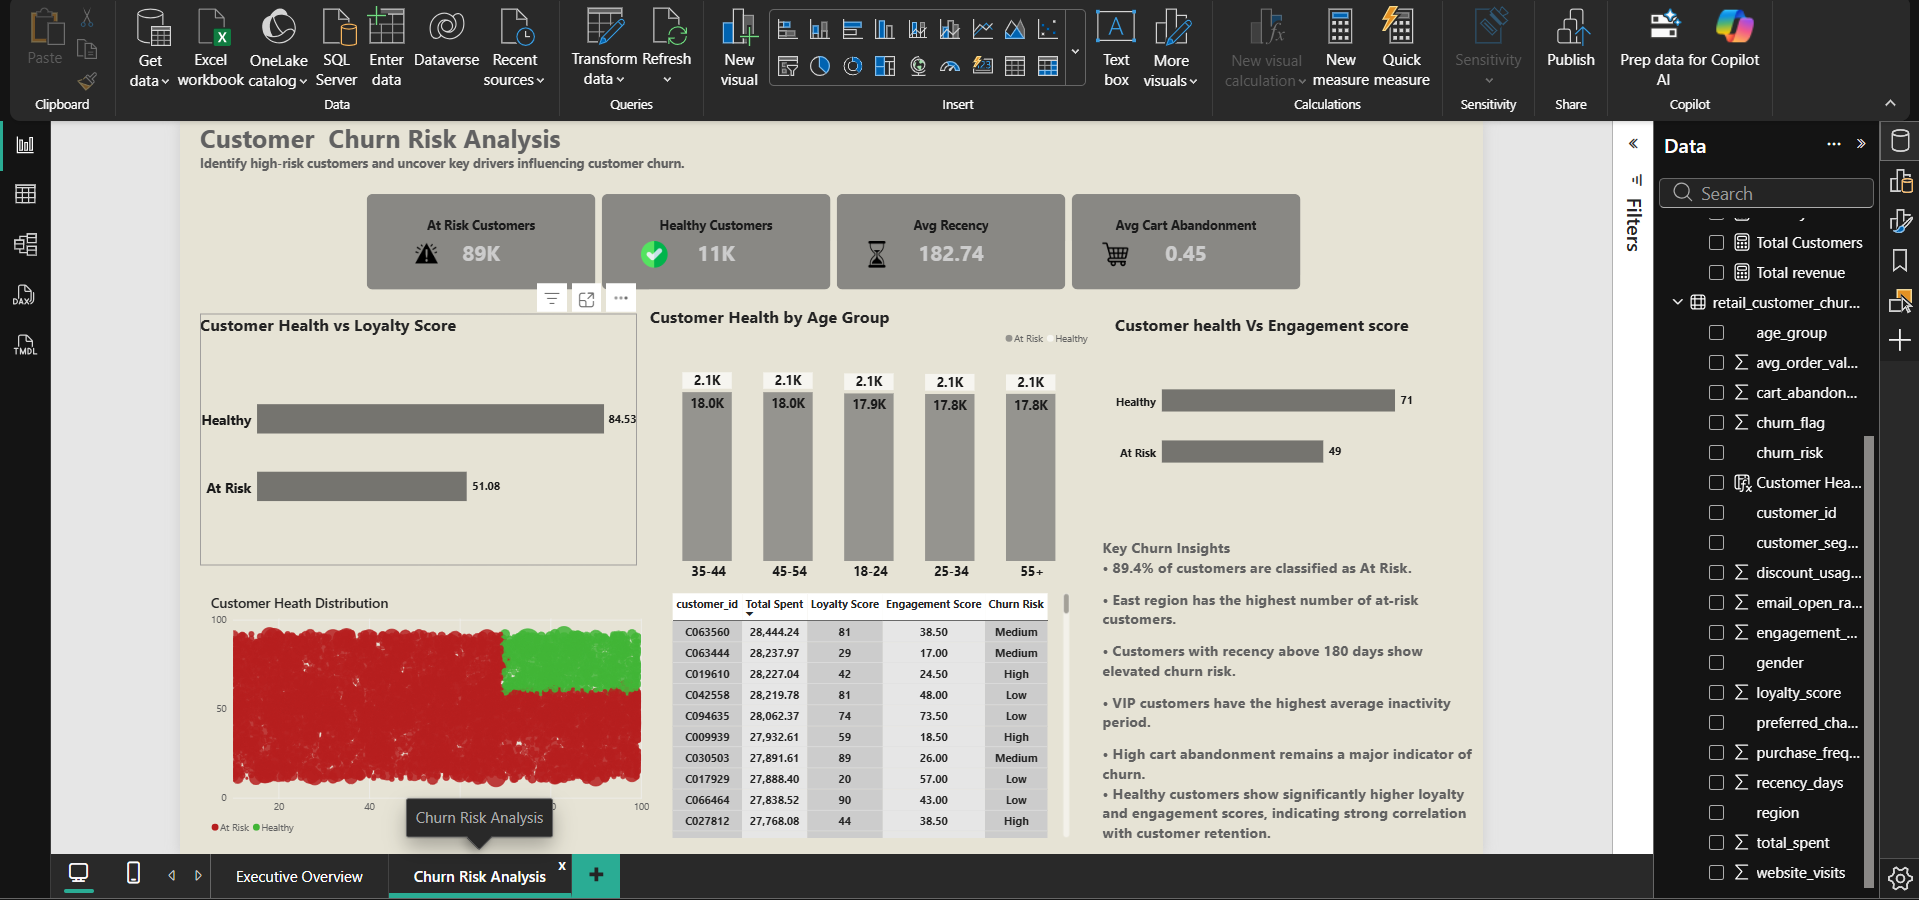

Layout of this report page (visuals, bound fields, positions):
{"tool":"powerbi","page":{"name":"Churn Risk Analysis","canvas":[1920,1080],"ordinal":1},"visuals":[{"type":"textbox","box":[30.3,0,1889.3,95.2],"z":0},{"type":"cardVisual","fields":{"Data":["measure.At Risk Customers","measure.Healthy Customers","measure.Avg Recency","measure.Avg Cart Abandonment"]},"box":[274.8,106,1376.4,142.8],"z":1000},{"type":"clusteredBarChart","title":"Customer Health vs Loyalty Score","fields":{"Category":["retail_customer_churn_analysis.Customer Health"],"Y":["measure.Avg Loyalty Score"]},"box":[30.3,283.5,642.8,372.2],"z":2000},{"type":"columnChart","title":"Customer Health by Age Group","fields":{"Category":["retail_customer_churn_analysis.age_group"],"Series":["retail_customer_churn_analysis.Customer Health"],"Y":["CountNonNull(retail_customer_churn_analysis.customer_id)"]},"box":[692.5,272.7,649.2,409],"z":3000},{"type":"tableEx","fields":{"Values":["retail_customer_churn_analysis.customer_id","Sum(retail_customer_churn_analysis.total_spent)","Sum(retail_customer_churn_analysis.loyalty_score)","Sum(retail_customer_churn_analysis.engagement_score)","retail_customer_churn_analysis.churn_risk"]},"box":[707.7,681.7,616.8,389.5],"z":4000},{"type":"image","box":[311.6,177.5,103.9,39],"z":5000},{"type":"image","box":[651.4,177.5,93.1,39],"z":6000},{"type":"image","box":[1324.5,177.5,103.9,39],"z":7000},{"type":"image","box":[999.8,177.5,54.1,39],"z":8000},{"type":"textbox","box":[1359.1,612.5,560.5,458.8],"z":9000},{"type":"scatterChart","title":"Customer Heath Distribution","fields":{"X":["Sum(retail_customer_churn_analysis.loyalty_score)"],"Size":["Sum(retail_customer_churn_analysis.total_spent)"],"Category":["retail_customer_churn_analysis.customer_id"],"Y":["Sum(retail_customer_churn_analysis.engagement_score)"],"Series":["retail_customer_churn_analysis.Customer Health"]},"box":[30.3,681.7,677.4,389.5],"z":10000},{"type":"clusteredBarChart","title":"Customer health Vs Engagement score","fields":{"Category":["retail_customer_churn_analysis.Customer Health"],"Y":["measure.Avg Emgagement Score"]},"box":[1376.4,283.5,543.2,292.2],"z":10001}]}

Visuals, with their boxes on the page's 1920x1080 design canvas (x1, y1, x2, y2). These are canvas units, not pixel positions in the 1919x900 screenshot, which may show the page scaled, cropped or inside an application window:
textbox: crop(30, 0, 1920, 95)
cardVisual - measure.At Risk Customers x measure.Healthy Customers: crop(275, 106, 1651, 249)
"Customer Health vs Loyalty Score" clusteredBarChart: crop(30, 284, 673, 656)
"Customer Health by Age Group" columnChart: crop(692, 273, 1342, 682)
tableEx - retail_customer_churn_analysis.customer_id x Sum(retail_customer_churn_analysis.total_spent): crop(708, 682, 1324, 1071)
image: crop(312, 178, 416, 216)
image: crop(651, 178, 744, 216)
image: crop(1324, 178, 1428, 216)
image: crop(1000, 178, 1054, 216)
textbox: crop(1359, 612, 1920, 1071)
"Customer Heath Distribution" scatterChart: crop(30, 682, 708, 1071)
"Customer health Vs Engagement score" clusteredBarChart: crop(1376, 284, 1920, 576)
